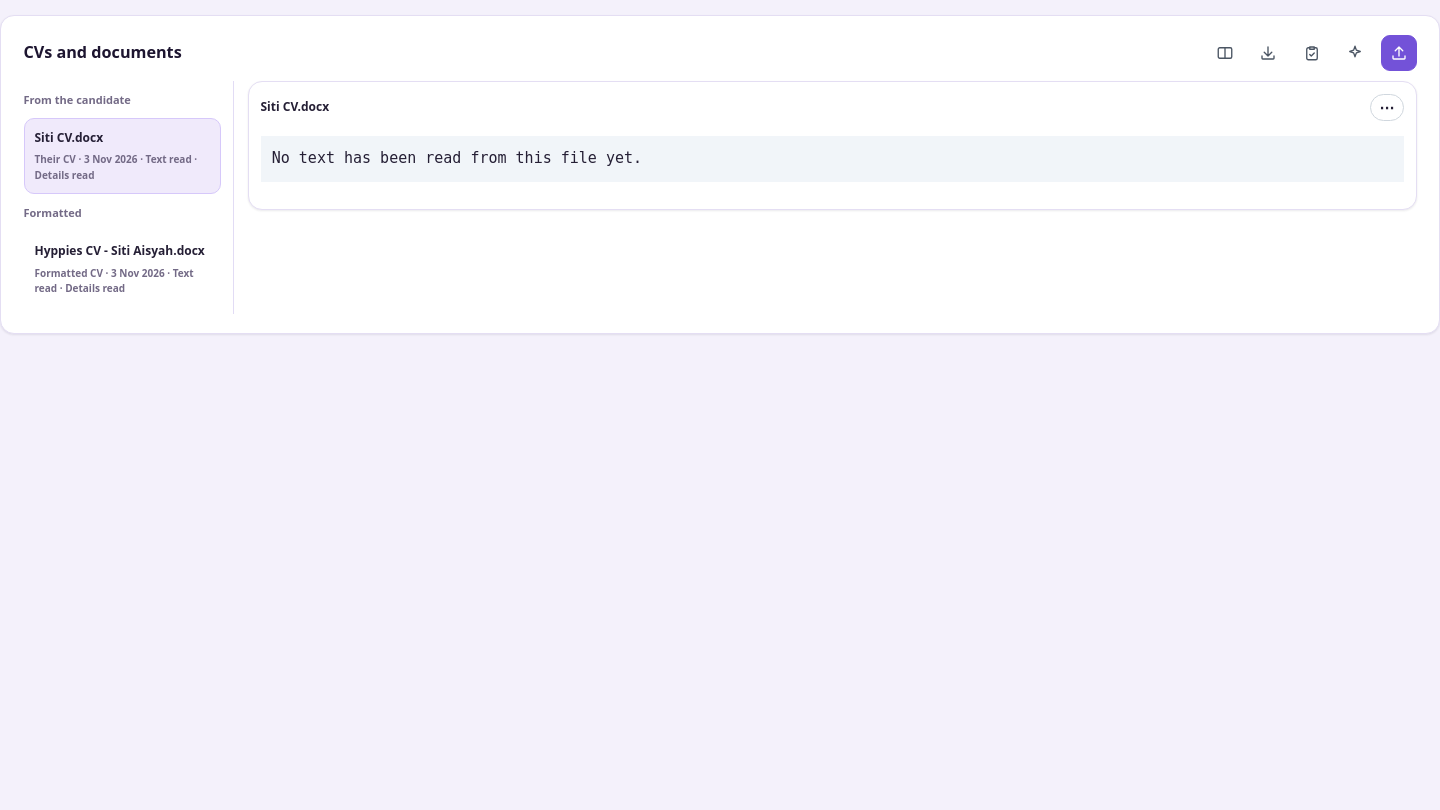
it: formatting a CV › says a CV of the kind being made is saved already, blind or not, once chosen
Expected: the text "Hyppies CV - Siti Aisyah.docx" is shown, [34, 242, 210, 261]
Step 1. Click the button named "Format a CV" → coordinates (1355, 53), box [1337, 35, 1373, 71]
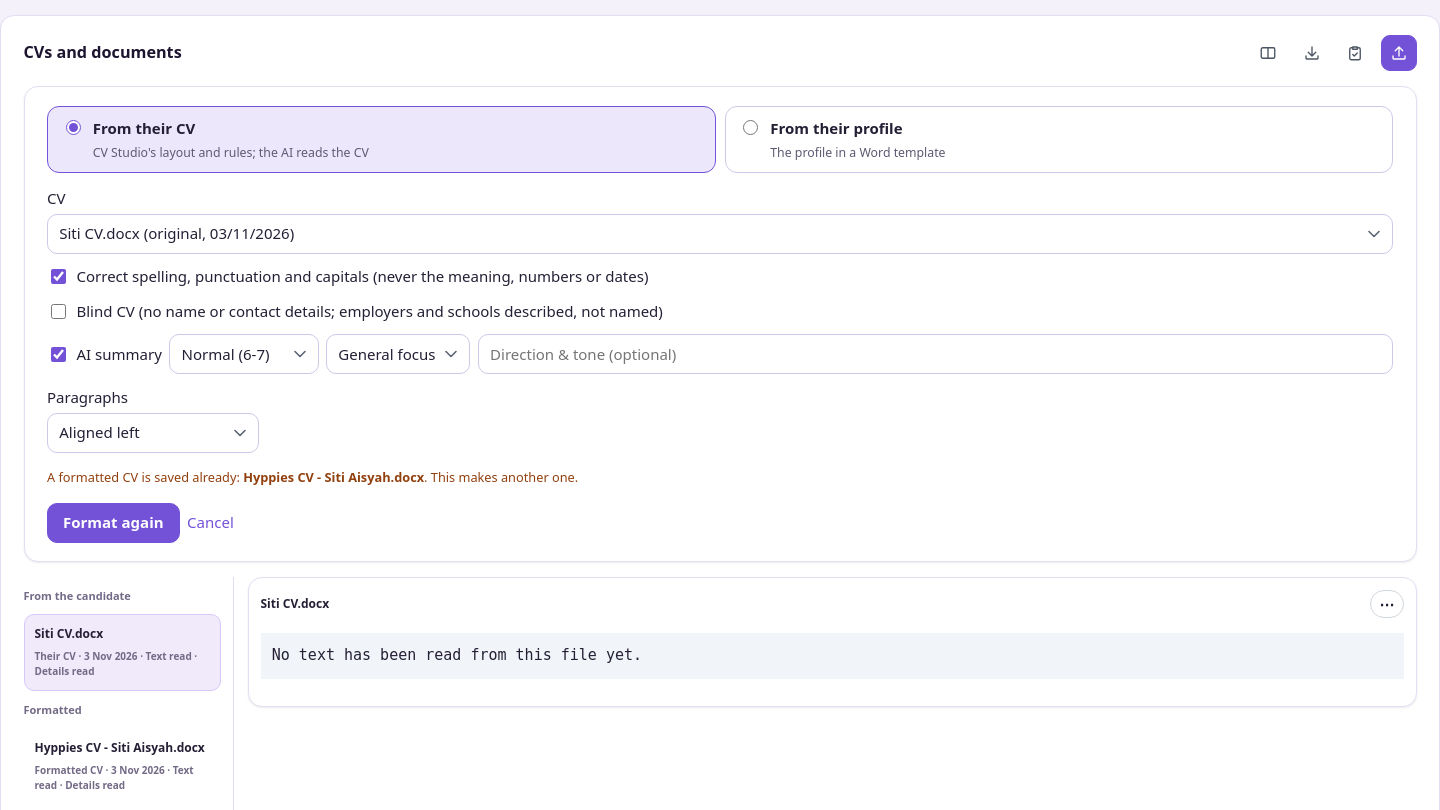
Expected: the element that starts with "A formatted CV" shows "A formatted CV is saved already: Hyppies CV - Siti Aisyah.docx. This makes another one.", [47, 468, 578, 486]
Expected: the button "Format again" is shown, [47, 502, 180, 542]
Step 2. Click the checkbox labelled "Blind CV" → coordinates (58, 311), box [51, 304, 66, 319]
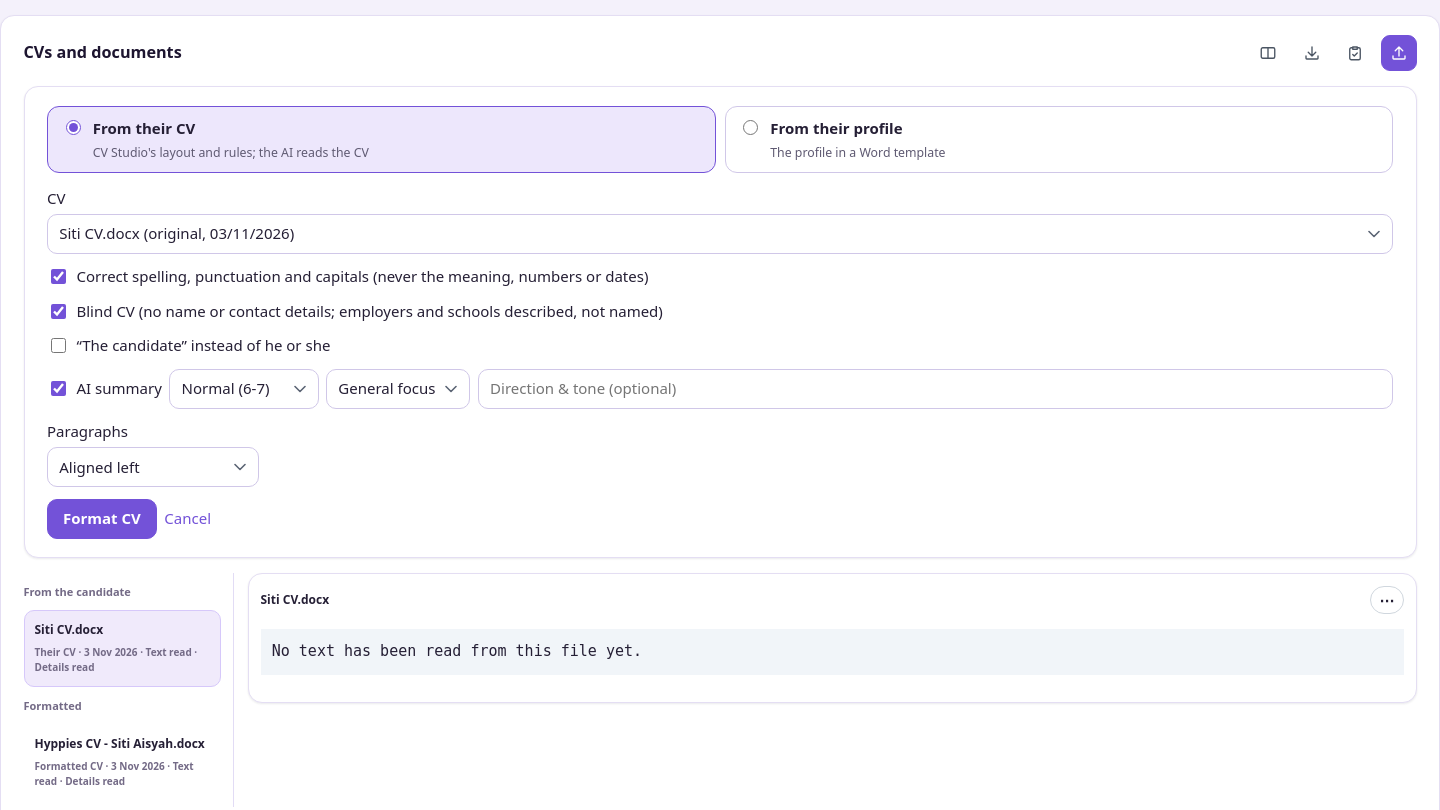
Expected: the button "Format CV" is shown, [47, 498, 157, 538]
